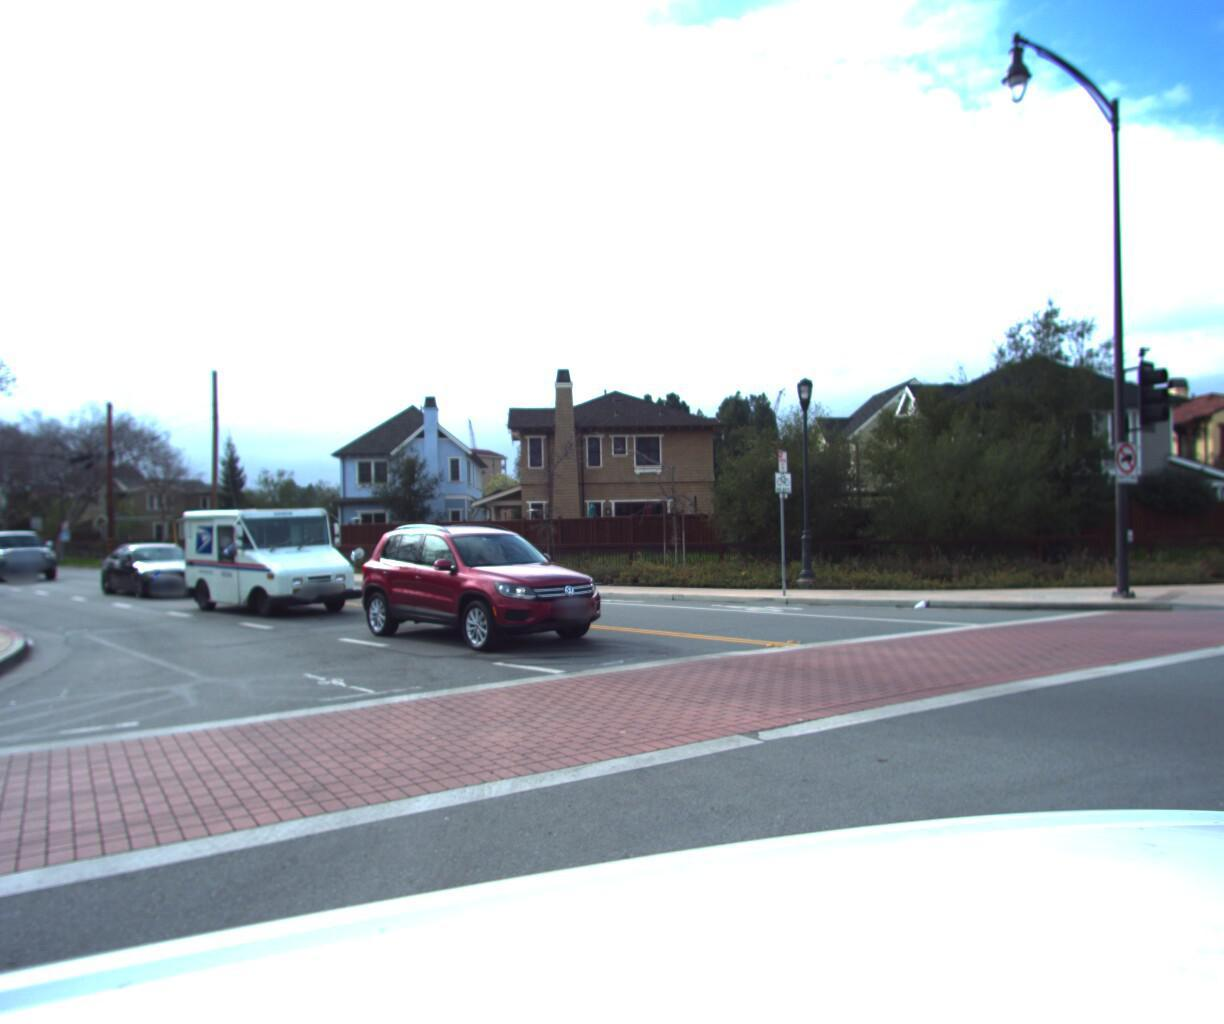bicycle: (0, 519, 3, 587)
car: (348, 522, 634, 661), (94, 533, 227, 592), (0, 520, 66, 575), (0, 525, 8, 565)
other_vehicle: (176, 493, 378, 613)
